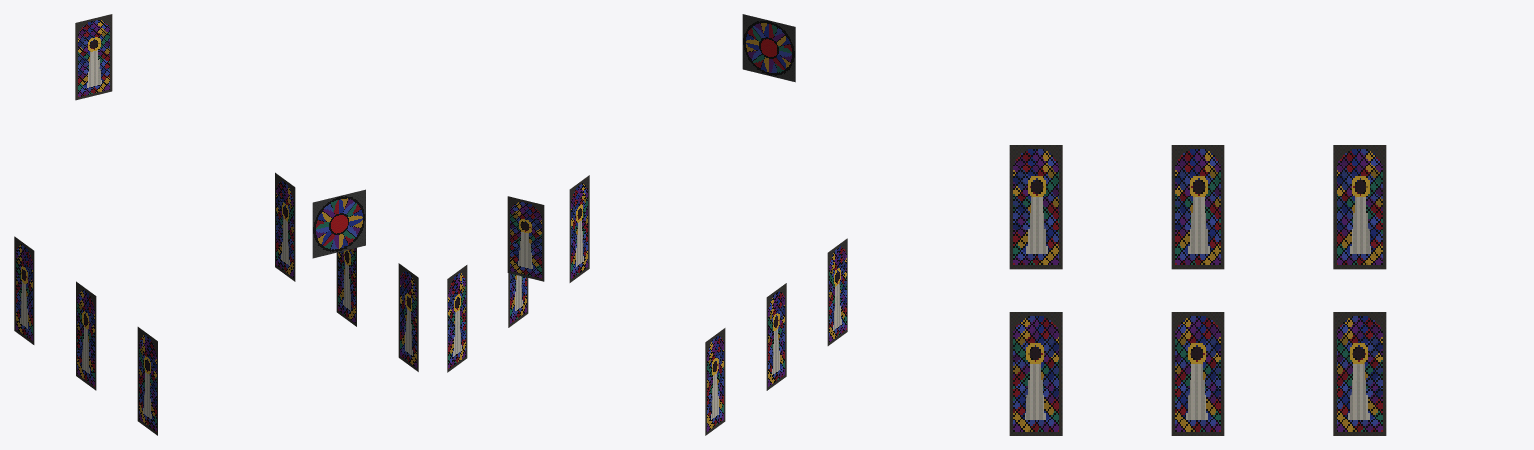
File: vidrieras.obj
3 renders of one model, left to right at view 1: azimuth 30°, elevation 25°; view 2: azimuth 150°, elevation 25°; view 3: azimuth 270°, elevation 25°, orthographic. The views are drawn at different scales.
Parts seen in each view (by area): view 1: vidrieras; view 2: vidrieras; view 3: vidrieras.
Part boxes in pixels (<box>): vidrieras: <box>14,14,418,435</box>; vidrieras: <box>447,14,847,435</box>; vidrieras: <box>1009,145,1386,435</box>.
Size of the model in its own units: 6.34 by 5.7 by 10.34.
Materials: 2 (2 with a texture image).
